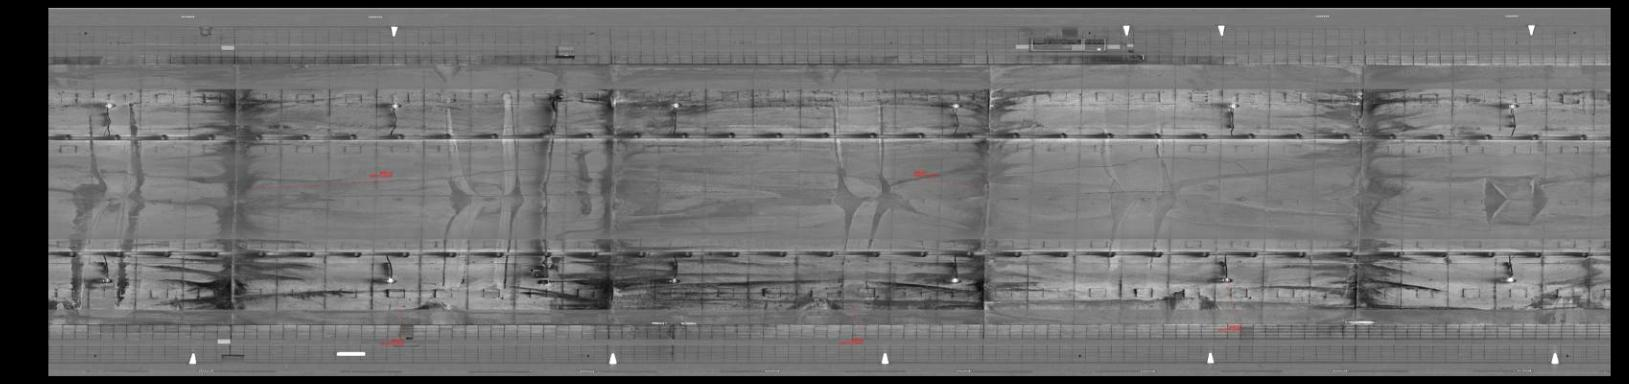light: (383, 99, 408, 113), (1501, 273, 1521, 289), (1216, 273, 1236, 286), (944, 99, 968, 110), (1502, 98, 1524, 110), (100, 98, 119, 111), (1220, 99, 1241, 110), (946, 274, 965, 286), (380, 273, 399, 285), (97, 273, 115, 285), (666, 100, 686, 111), (665, 276, 686, 285)
